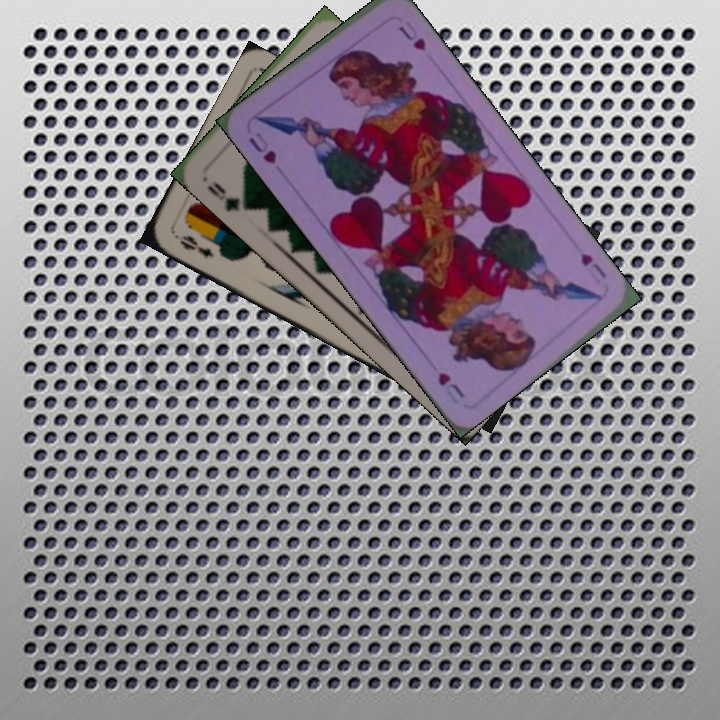EO: (175, 231, 217, 260)
G9: (203, 176, 252, 215)
HU: (244, 127, 279, 167), (576, 248, 609, 281)
